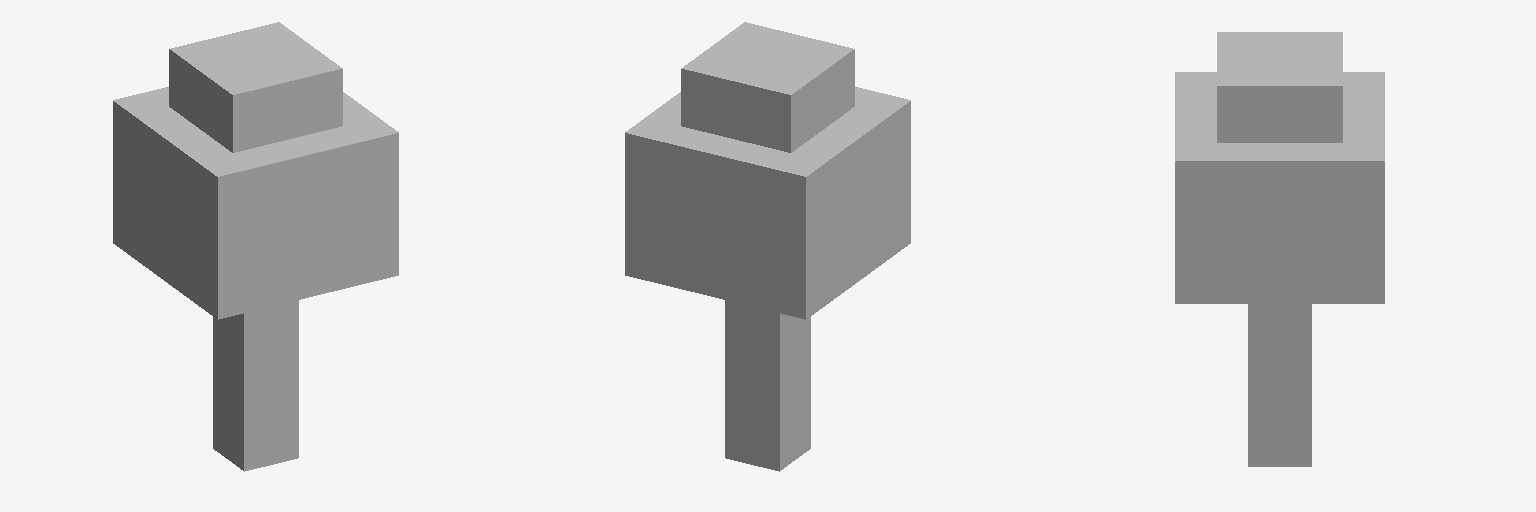
Rendered from trees.obj.
The picture shows the model from 3 angles: view 1: azimuth 30°, elevation 25°; view 2: azimuth 150°, elevation 25°; view 3: azimuth 270°, elevation 25°; orthographic projection.
Visible parts, largest first — view 1: polySurface1; view 2: polySurface1; view 3: polySurface1.
Boxes of the visible parts, box(x1,y1,x2,y2) form: polySurface1: box(113, 22, 398, 471); polySurface1: box(625, 22, 910, 471); polySurface1: box(1175, 32, 1384, 466).
Size of the model in its own units: 9.92 by 20.57 by 9.92.